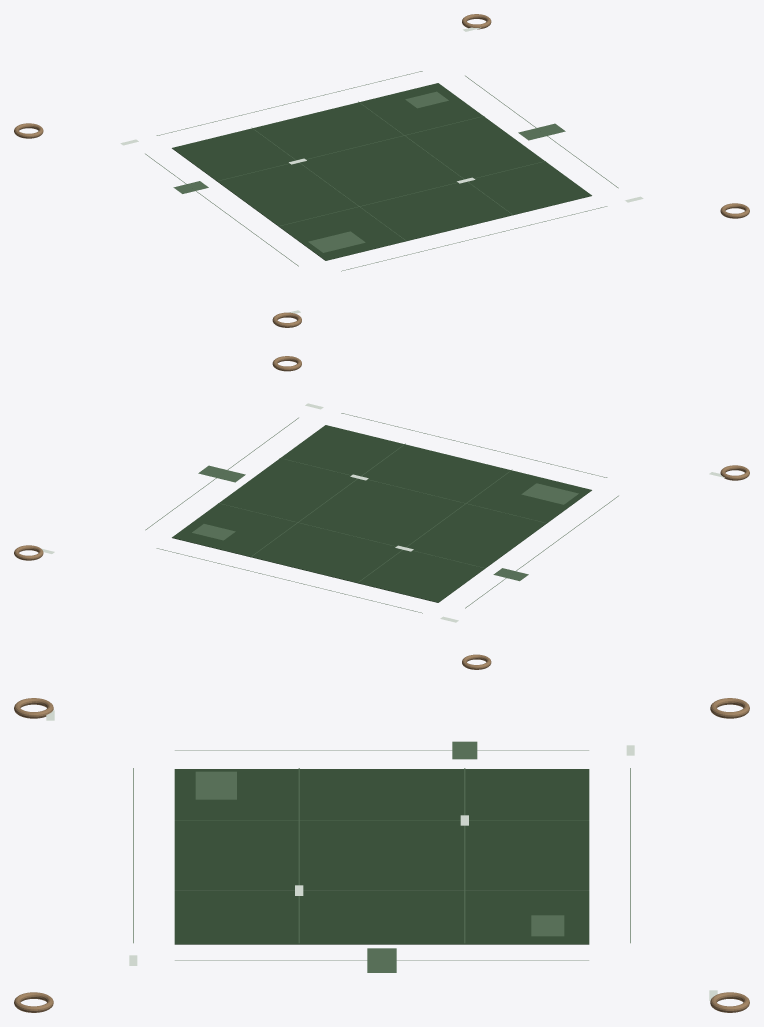
Rendered from board_substrate.glb.
3 views of the same model, one above another, from view 1: azimuth 30°, elevation 25°; view 2: azimuth 150°, elevation 25°; view 3: azimuth 270°, elevation 25° (orthographic). The views are drawn at different scales.
Parts seen in each view (by area): view 1: Board_Substrate, Ghost_-1.0_-1.0; view 2: Board_Substrate, Ghost_-1.0_-1.0; view 3: Board_Substrate, Ghost_-1.0_-1.0, Ghost_1.5_0.0, Ghost_1.0_1.0, Mount_Hole_Ring_1, Mount_Hole_Ring_2, Mount_Hole_Ring_3, Mount_Hole_Ring_0.
Boxes of the visible parts, x1,y1,x2,y2 form: Board_Substrate: [172, 83, 591, 260]; Ghost_-1.0_-1.0: [308, 231, 365, 252]; Board_Substrate: [172, 425, 591, 602]; Ghost_-1.0_-1.0: [521, 483, 578, 504]; Board_Substrate: [174, 769, 589, 944]; Ghost_-1.0_-1.0: [195, 771, 236, 799]; Ghost_1.5_0.0: [367, 948, 396, 972]; Ghost_1.0_1.0: [531, 915, 564, 936]; Mount_Hole_Ring_1: [14, 992, 53, 1012]; Mount_Hole_Ring_2: [710, 698, 749, 718]; Mount_Hole_Ring_3: [710, 992, 749, 1012]; Mount_Hole_Ring_0: [14, 698, 53, 718].
Size of the model in its own units: 4.44 by 0.04 by 4.44.
